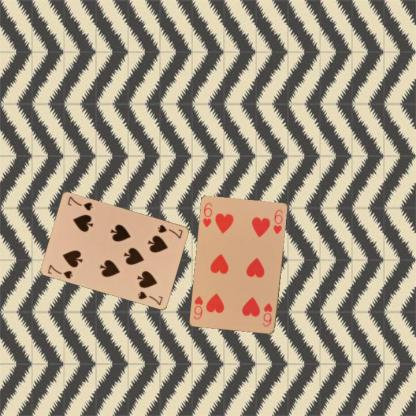6h: (200, 200, 214, 229), (260, 301, 274, 328)
7s: (155, 222, 184, 240), (45, 262, 74, 280)
